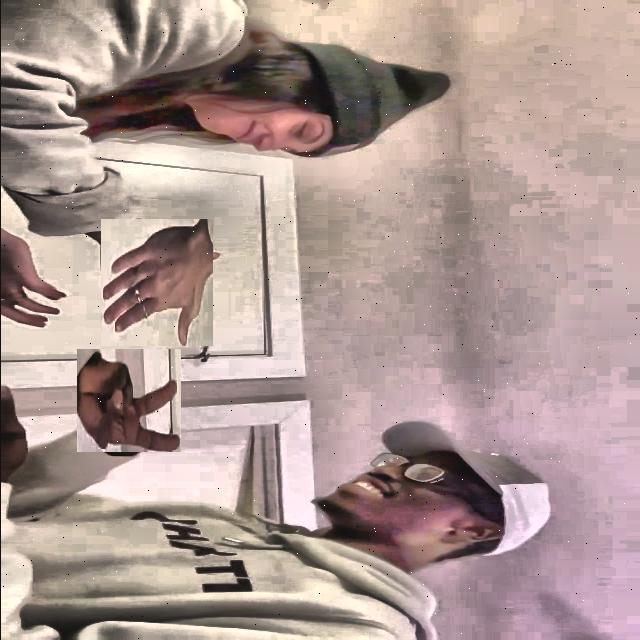not-gloved: (96, 222, 216, 342), (76, 348, 180, 452)
